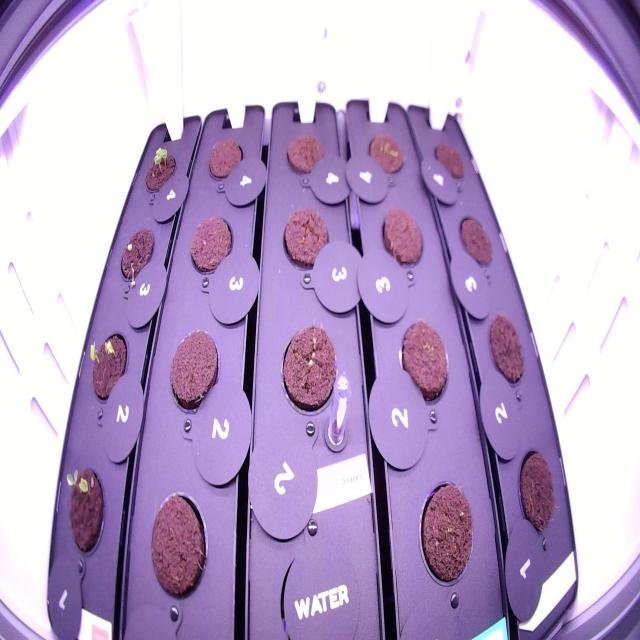germination: (58, 454, 114, 564), (84, 322, 134, 413), (358, 120, 411, 188), (137, 138, 181, 202)
pod: (142, 482, 216, 610), (274, 312, 346, 432), (414, 469, 477, 598), (394, 304, 454, 420), (508, 432, 564, 548), (163, 322, 225, 422), (276, 197, 336, 285), (482, 303, 531, 397), (185, 203, 238, 287), (375, 200, 429, 278), (114, 215, 160, 294), (451, 205, 498, 281), (280, 125, 332, 185), (424, 130, 470, 192), (202, 134, 249, 190)
